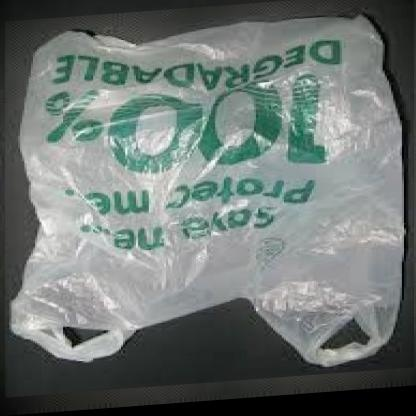trash: (10, 16, 402, 366)
